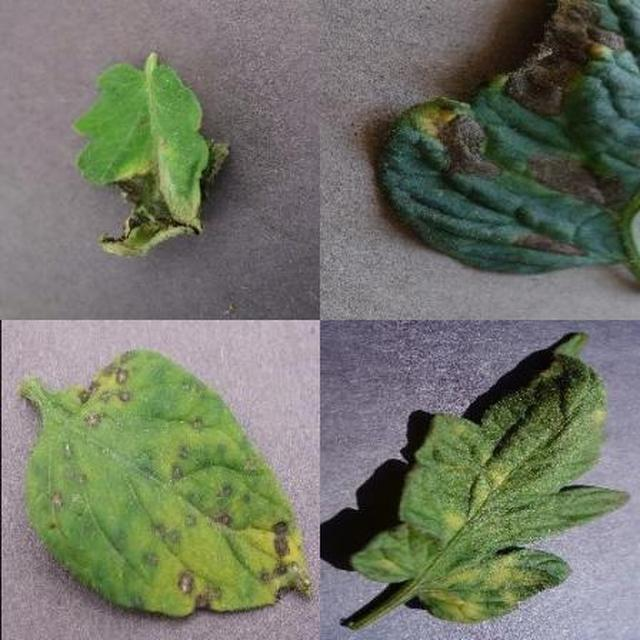Late Blight Leaf: (220, 200, 640, 640)
